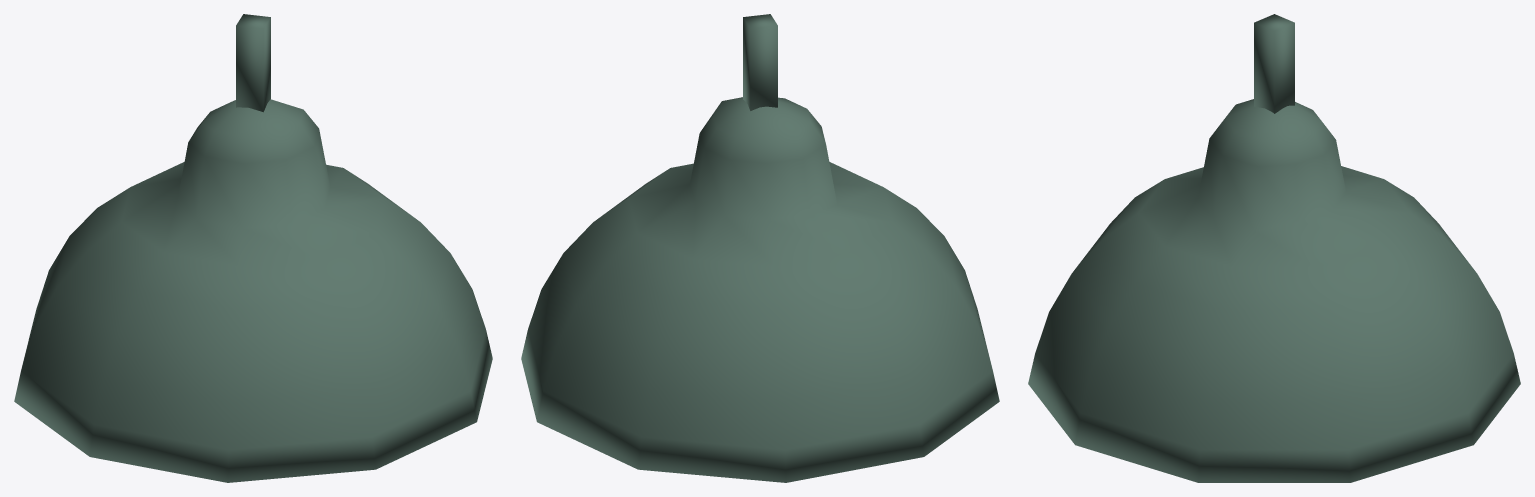
Rendered from Lamp.fbx.
3 renders of one model, left to right at view 1: azimuth 30°, elevation 25°; view 2: azimuth 150°, elevation 25°; view 3: azimuth 270°, elevation 25°, orthographic.
Visible parts, largest first — view 1: Lamp; view 2: Lamp; view 3: Lamp.
Part boxes in pixels (x1,y1,x2,y2): Lamp: (14,14,492,482); Lamp: (521,14,999,482); Lamp: (1028,14,1520,482).
Size of the model in its own units: 43.35 by 39.19 by 45.58.
